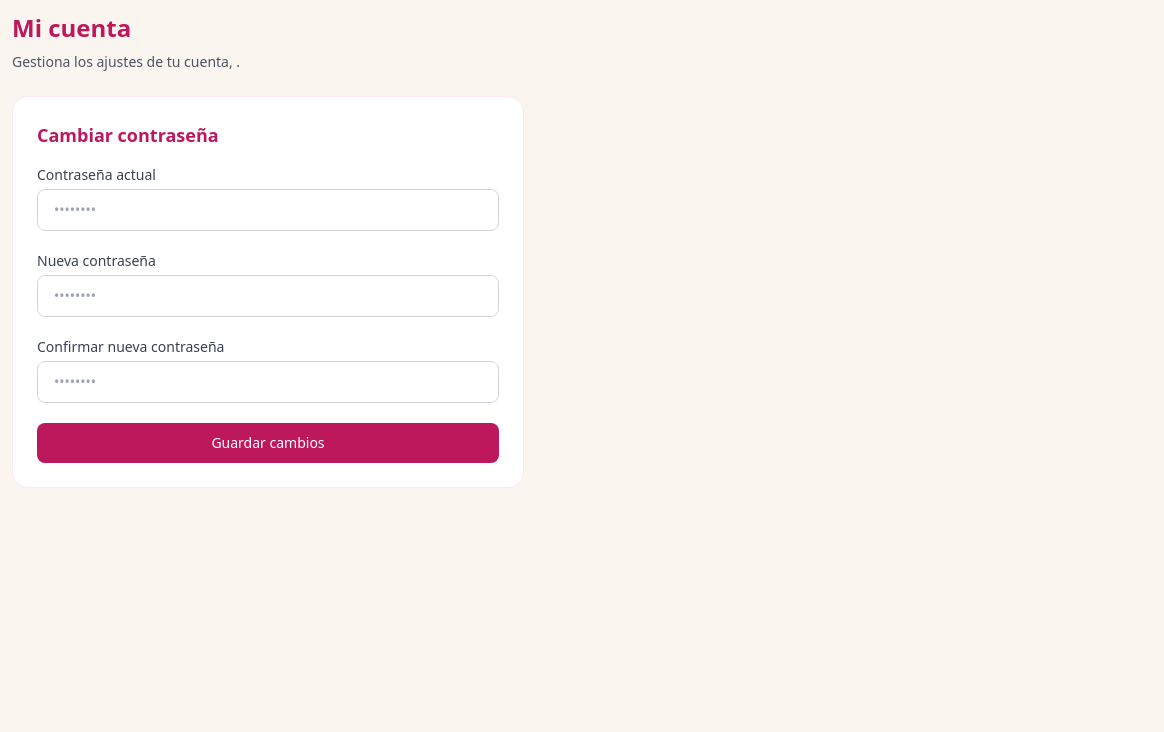
it: AccountPage › muestra el mensaje de error que devuelve el backend
Type "wrong" into the password field labelled "Contraseña actual" at (268, 210), box [37,189,499,231]
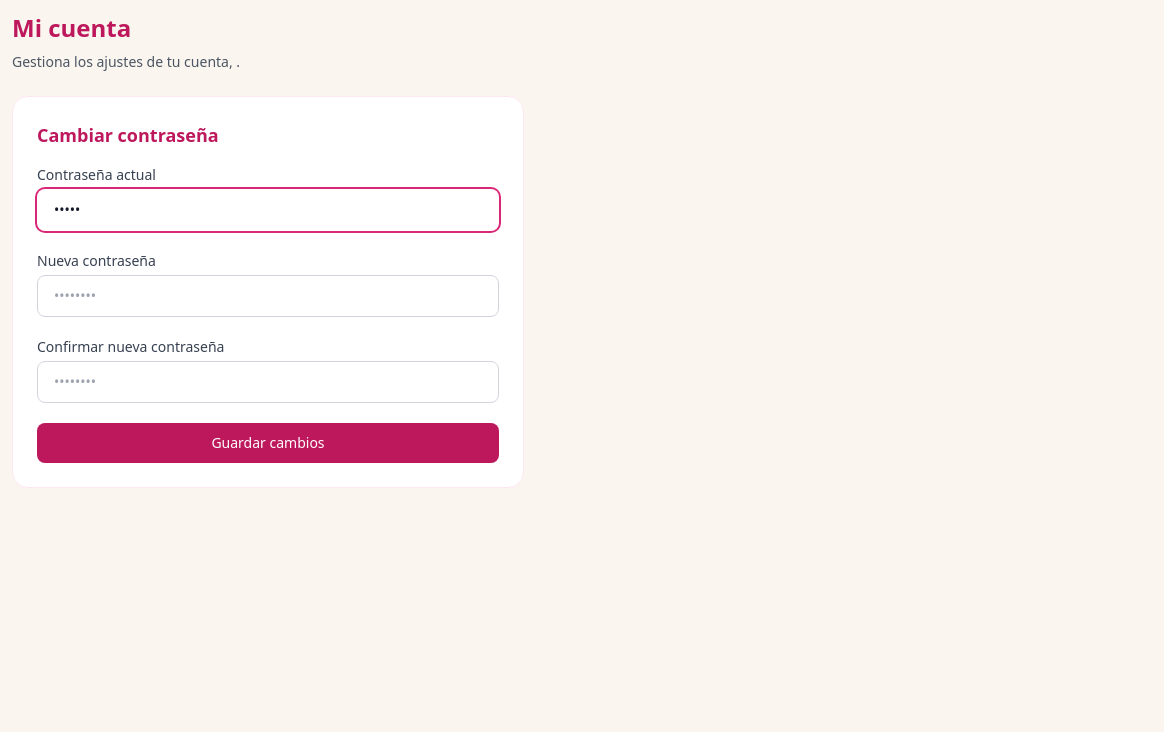
Type "newPass1" into the password field labelled "Nueva contraseña" at (268, 296), box [37,275,499,317]
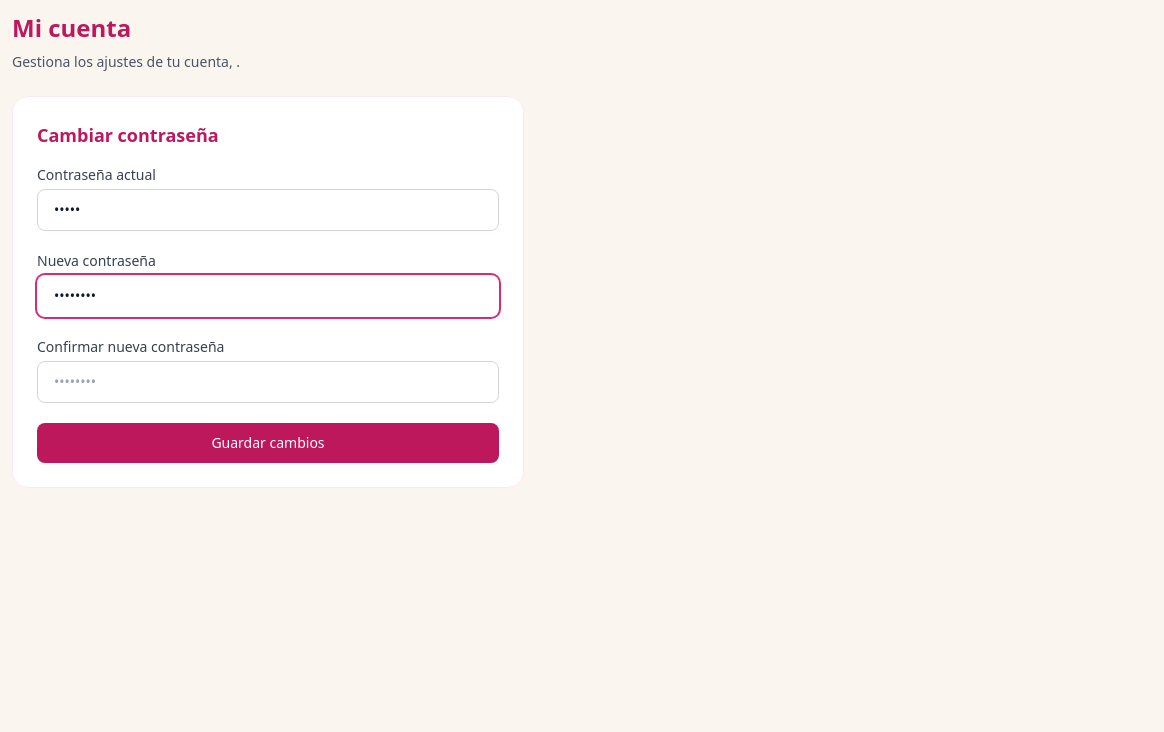
Type "newPass1" into the password field labelled "Confirmar nueva contraseña" at (268, 382), box [37,361,499,403]
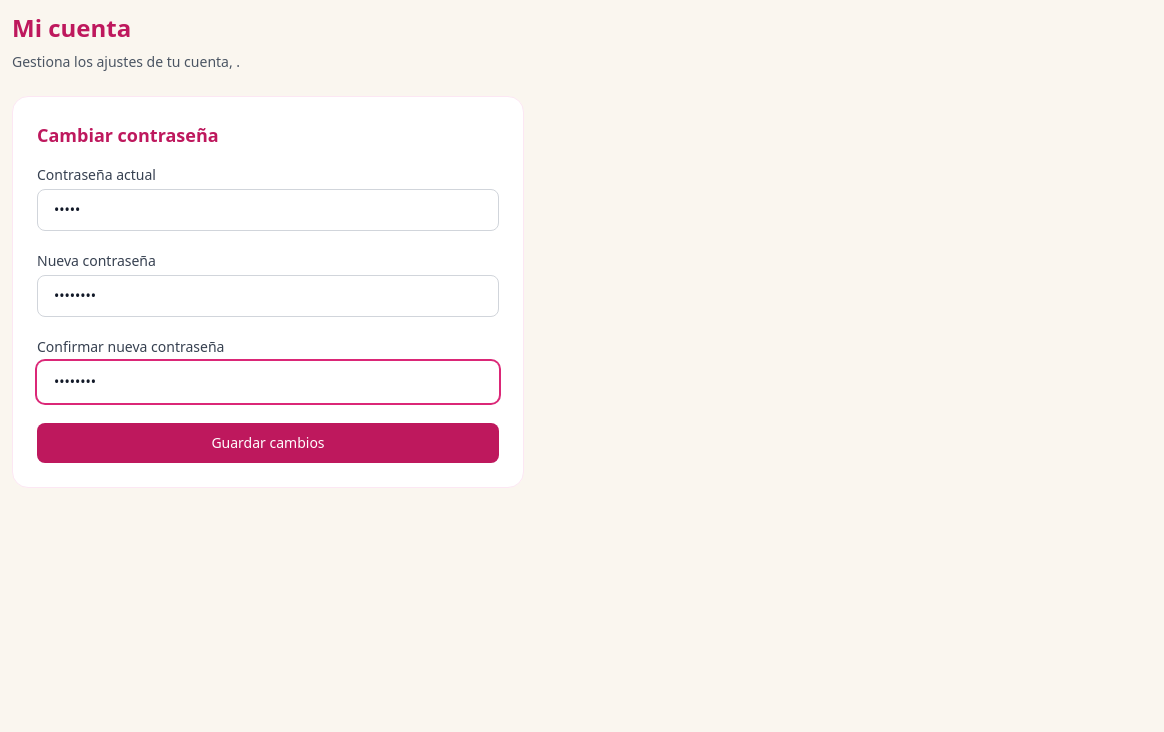
Click the button "Guardar cambios" at (268, 443), box [37,423,499,463]
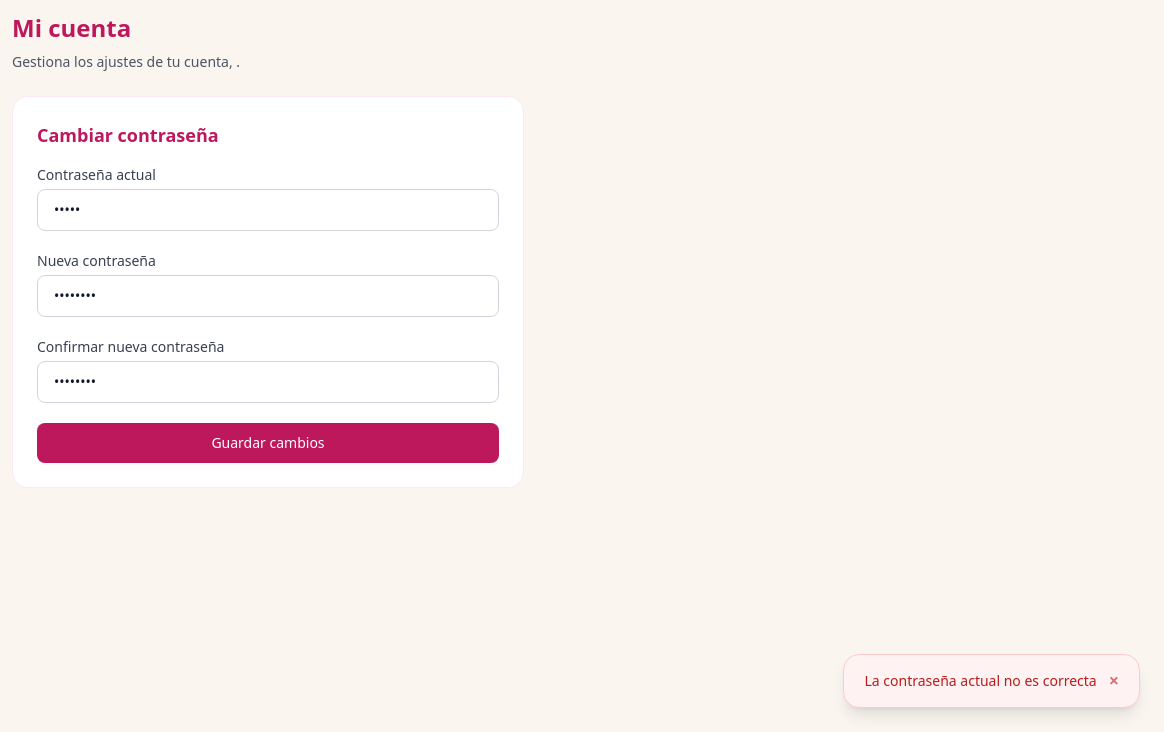
Now the text "La contraseña actual no es correcta" is shown, box [864,671,1097,691]
